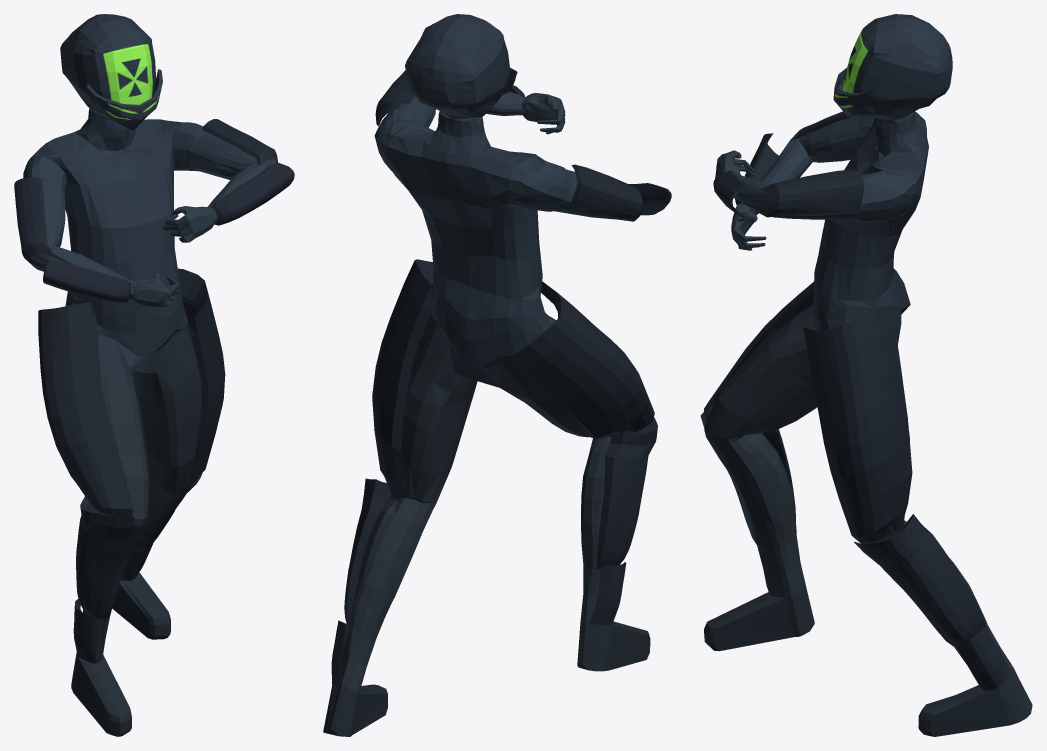
File: Bastion_Hit_000003.obj
3 views of the same model, side by side, from view 1: azimuth 30°, elevation 25°; view 2: azimuth 150°, elevation 25°; view 3: azimuth 270°, elevation 25° (orthographic). The views are drawn at different scales.
Parts seen in each view (by area): view 1: Cube.002; view 2: Cube.002; view 3: Cube.002.
Part boxes in pixels (bbox=[...]): Cube.002: bbox=[14, 14, 294, 736]; Cube.002: bbox=[323, 14, 671, 736]; Cube.002: bbox=[700, 14, 1032, 736].
Bounding box in the file's own units: 1.44 × 3.68 × 1.63.
